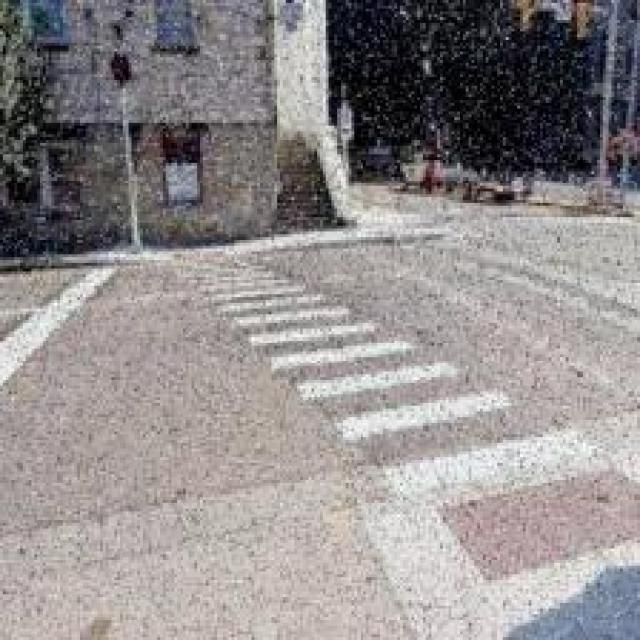walk-crossing: (136, 249, 613, 480)
